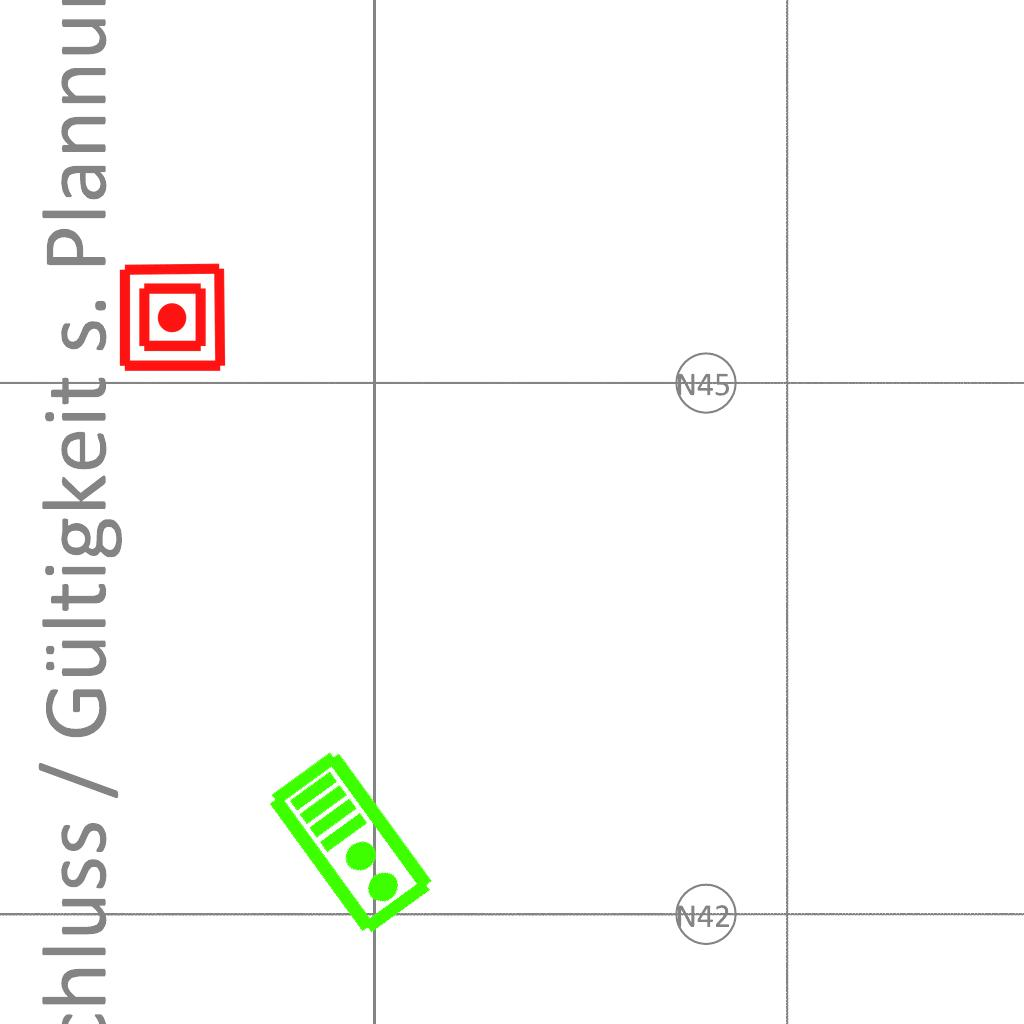Gegensprechanlage_mit_Video: (262, 742, 443, 942)
NAM-Nichtautomatischer_Melder: (116, 261, 229, 374)
